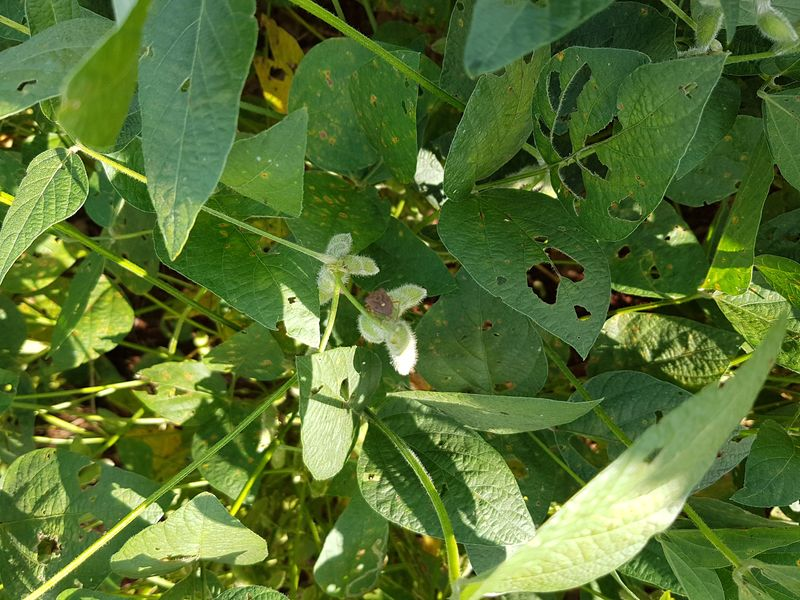Euschistus_heros_adulto: (354, 283, 407, 331)
